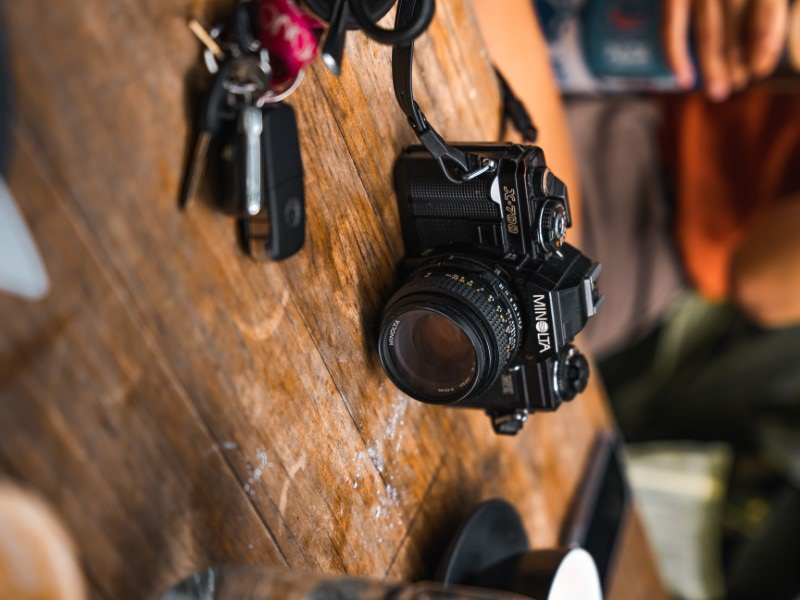carkey: (235, 91, 314, 264)
